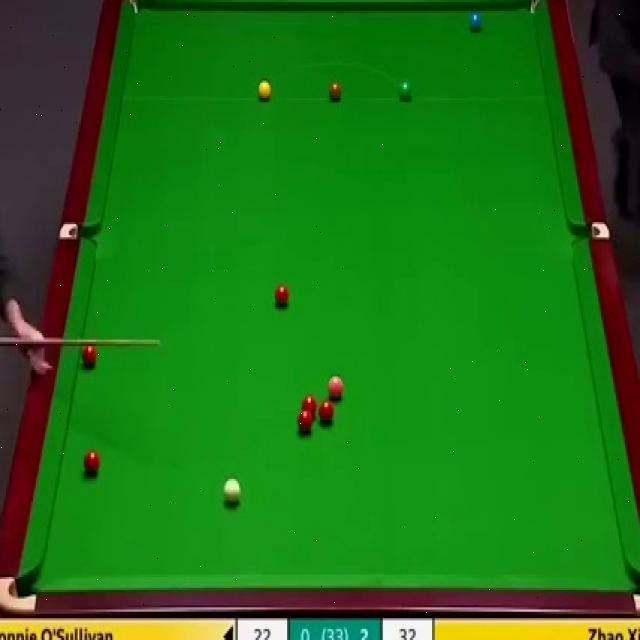blue-ball: (470, 12, 481, 35)
brown-ball: (328, 82, 342, 100)
green-ball: (398, 79, 413, 104)
pink-ball: (327, 374, 345, 399)
red-ball: (79, 342, 98, 370), (84, 448, 100, 478), (318, 400, 335, 426), (302, 394, 317, 420), (272, 285, 290, 306), (298, 409, 312, 432)
white-ball: (223, 478, 242, 506)
yellow-ball: (257, 80, 272, 102)
